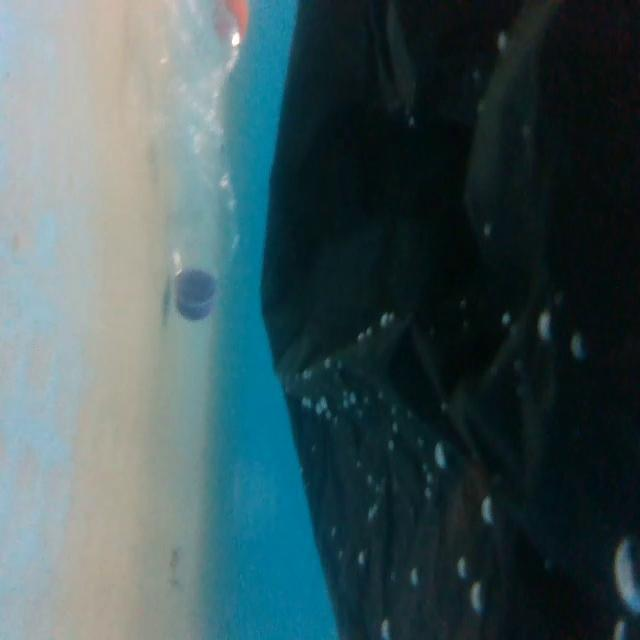plastic bottle: (262, 2, 640, 640), (144, 2, 253, 329)
